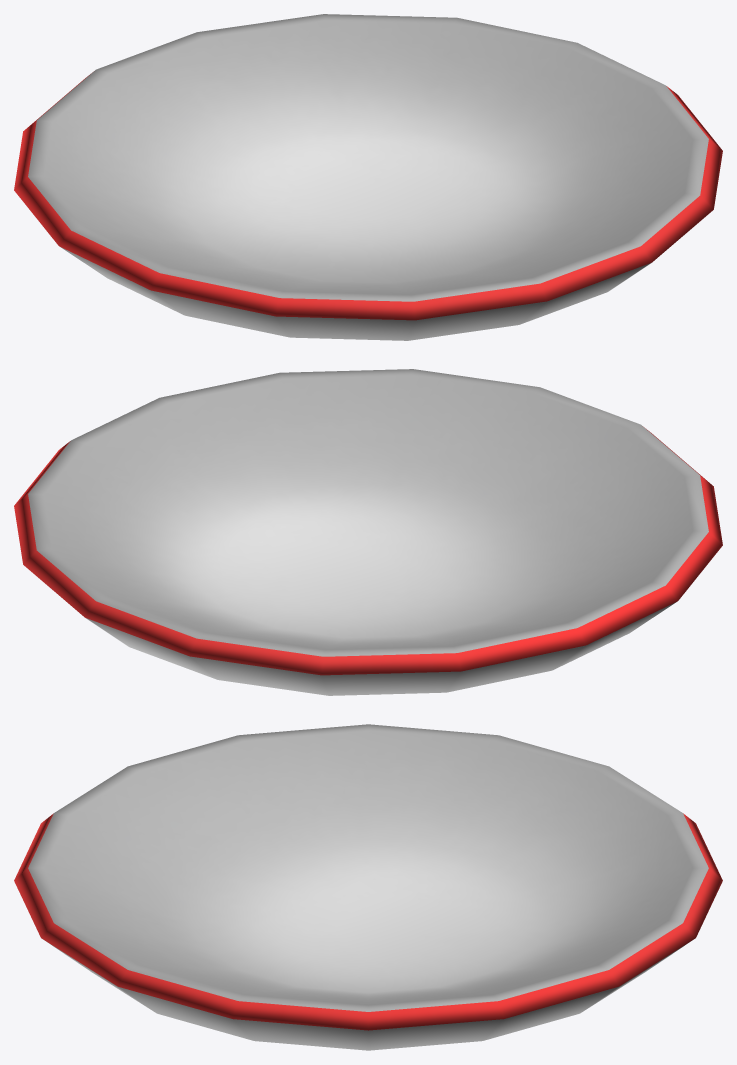
Rendered from M_Prop_Plate_001.fbx.
3 views of the same model, one above another, from view 1: azimuth 30°, elevation 25°; view 2: azimuth 150°, elevation 25°; view 3: azimuth 270°, elevation 25° (orthographic).
Parts seen in each view (by area): view 1: Plate1; view 2: Plate1; view 3: Plate1.
Part boxes in pixels (x1,y1,x2,y2): Plate1: (14,14,722,340); Plate1: (14,369,722,695); Plate1: (14,724,722,1050).
Size of the model in its own units: 61.74 by 5.4 by 61.74.
